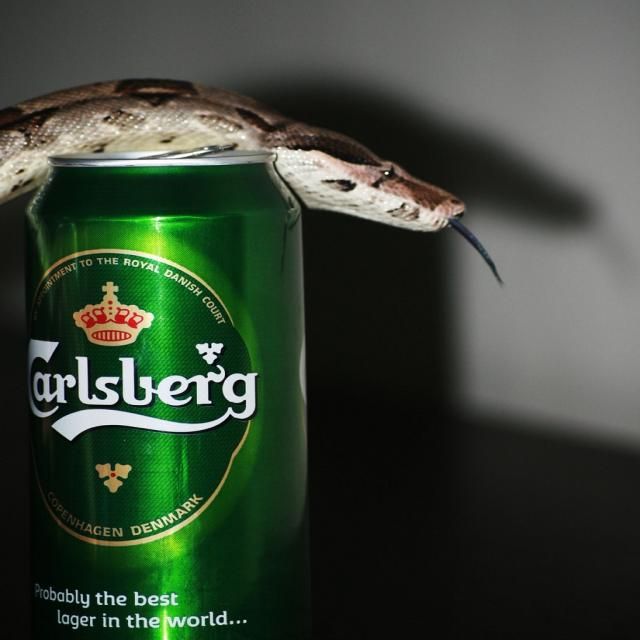carlsberg: (24, 251, 265, 549)
